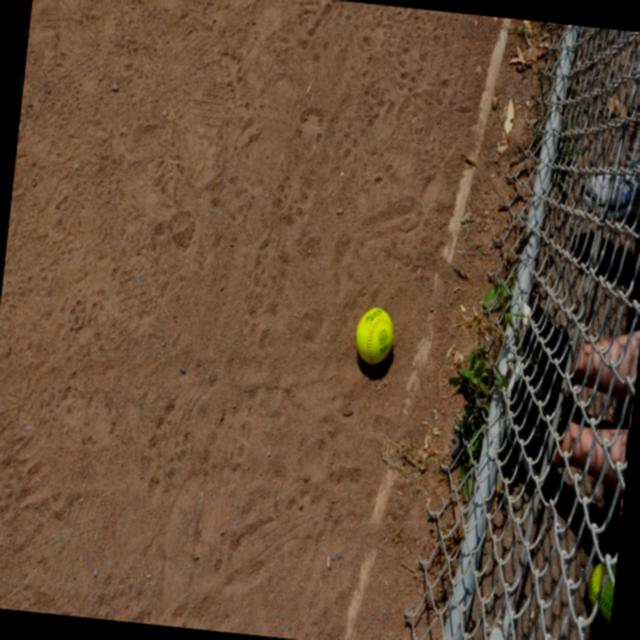Tennis ball: (352, 305, 395, 365)
